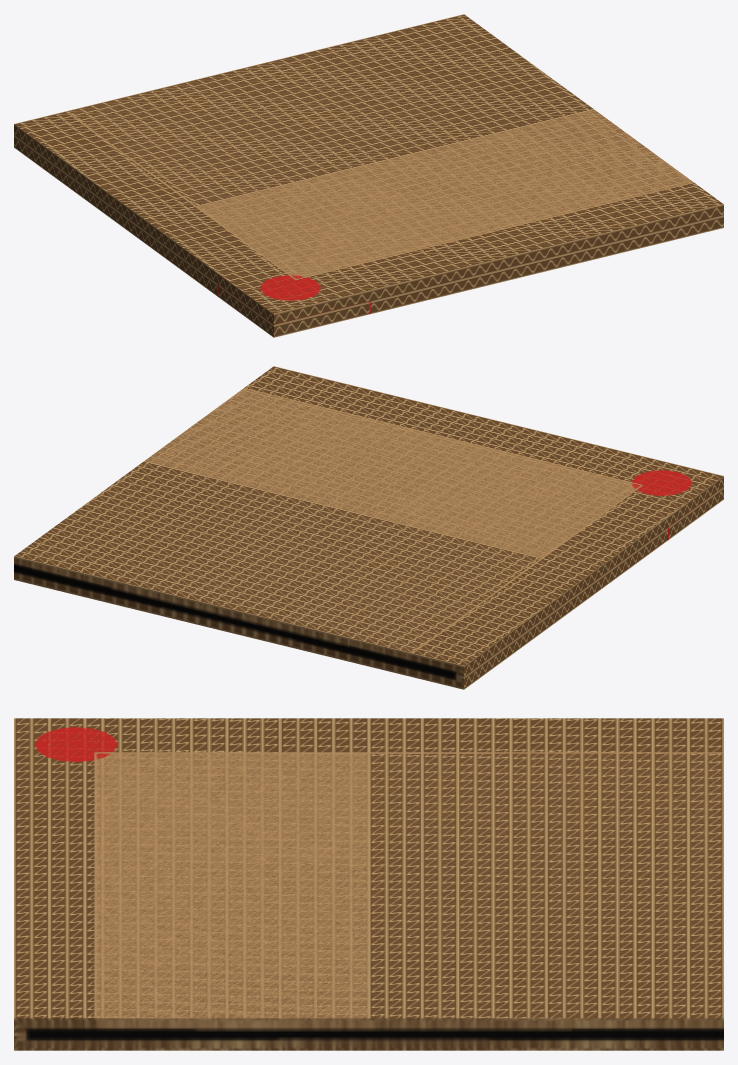
The model's file is 21-clock-base-front-left.fbx.
3 views of the same model, one above another, from view 1: azimuth 30°, elevation 25°; view 2: azimuth 150°, elevation 25°; view 3: azimuth 270°, elevation 25° (orthographic). The views are drawn at different scales.
Parts seen in each view (by area): view 1: clock-base-front-left; view 2: clock-base-front-left; view 3: clock-base-front-left.
Boxes of the visible parts, x1=… form: clock-base-front-left: x1=14, y1=14, x2=723, y2=337; clock-base-front-left: x1=14, y1=366, x2=723, y2=689; clock-base-front-left: x1=14, y1=718, x2=723, y2=1050.
Bounding box in the file's own units: 8000 × 400 × 8000.
1 material, 1 textured.
